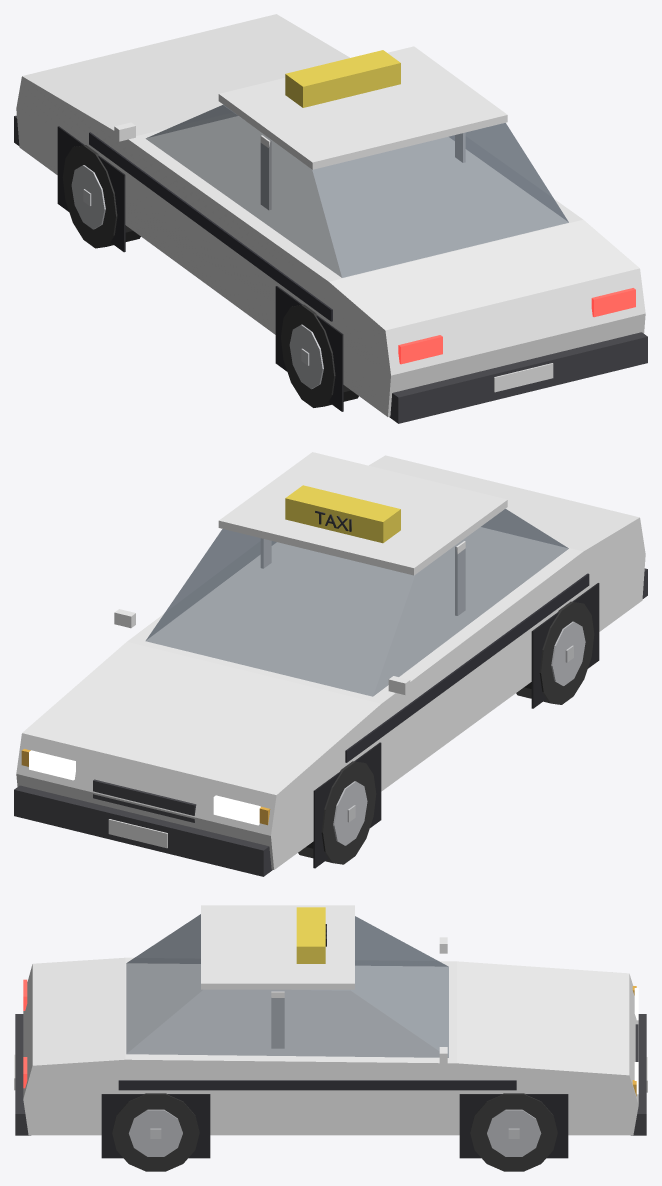
The model's file is taxi.glb.
The picture shows the model from 3 angles, top to bottom: view 1: azimuth 30°, elevation 25°; view 2: azimuth 150°, elevation 25°; view 3: azimuth 270°, elevation 25°; orthographic projection. The views are drawn at different scales.
Parts seen in each view (by area): view 1: body, cabin, roof, bumper_rear, wheel_lf, wheel_lb, sign, checker-1, arch_lb, arch_lf, plate_rear, taillight-1 (+2 smaller); view 2: body, cabin, roof, bumper_front, wheel_lb, wheel_lf, sign, checker-1, arch_lb, arch_lf, grille, headlight-1 (+3 smaller); view 3: body, cabin, roof, wheel_rb, wheel_rf, checker1, arch_rf, arch_rb, sign, bumper_rear, bumper_front, pillar_b1.
Boxes of the visible parts, x1=… form: body: x1=16, y1=14, x2=645, y2=416; cabin: x1=146, y1=104, x2=568, y2=277; roof: x1=218, y1=46, x2=507, y2=169; bumper_rear: x1=389, y1=332, x2=647, y2=423; wheel_lf: x1=62, y1=145, x2=140, y2=248; wheel_lb: x1=281, y1=304, x2=358, y2=407; sign: x1=285, y1=50, x2=400, y2=107; checker-1: x1=89, y1=132, x2=332, y2=321; arch_lb: x1=275, y1=286, x2=343, y2=411; arch_lf: x1=57, y1=126, x2=125, y2=252; plate_rear: x1=494, y1=363, x2=553, y2=392; taillight-1: x1=398, y1=335, x2=442, y2=364; body: x1=16, y1=455, x2=645, y2=869; cabin: x1=146, y1=509, x2=568, y2=696; roof: x1=218, y1=452, x2=507, y2=575; bumper_front: x1=14, y1=785, x2=272, y2=876; wheel_lb: x1=516, y1=601, x2=594, y2=704; wheel_lf: x1=298, y1=761, x2=376, y2=864; sign: x1=285, y1=485, x2=400, y2=543; checker-1: x1=345, y1=573, x2=589, y2=762; arch_lb: x1=531, y1=583, x2=599, y2=708; arch_lf: x1=313, y1=742, x2=381, y2=868; grille: x1=93, y1=779, x2=196, y2=822; headlight-1: x1=213, y1=795, x2=260, y2=825; body: x1=23, y1=957, x2=638, y2=1135; cabin: x1=126, y1=914, x2=448, y2=1057; roof: x1=201, y1=905, x2=354, y2=989; wheel_rb: x1=112, y1=1093, x2=199, y2=1171; wheel_rf: x1=470, y1=1093, x2=557, y2=1171; checker1: x1=118, y1=1080, x2=516, y2=1090; arch_rf: x1=459, y1=1094, x2=568, y2=1158; arch_rb: x1=101, y1=1094, x2=210, y2=1158; sign: x1=296, y1=907, x2=325, y2=963; bumper_rear: x1=15, y1=1014, x2=30, y2=1135; bumper_front: x1=631, y1=1014, x2=646, y2=1135; pillar_b1: x1=271, y1=991, x2=284, y2=1048.
Bounding box in the file's own units: 2.08 × 1.6 × 4.78.
